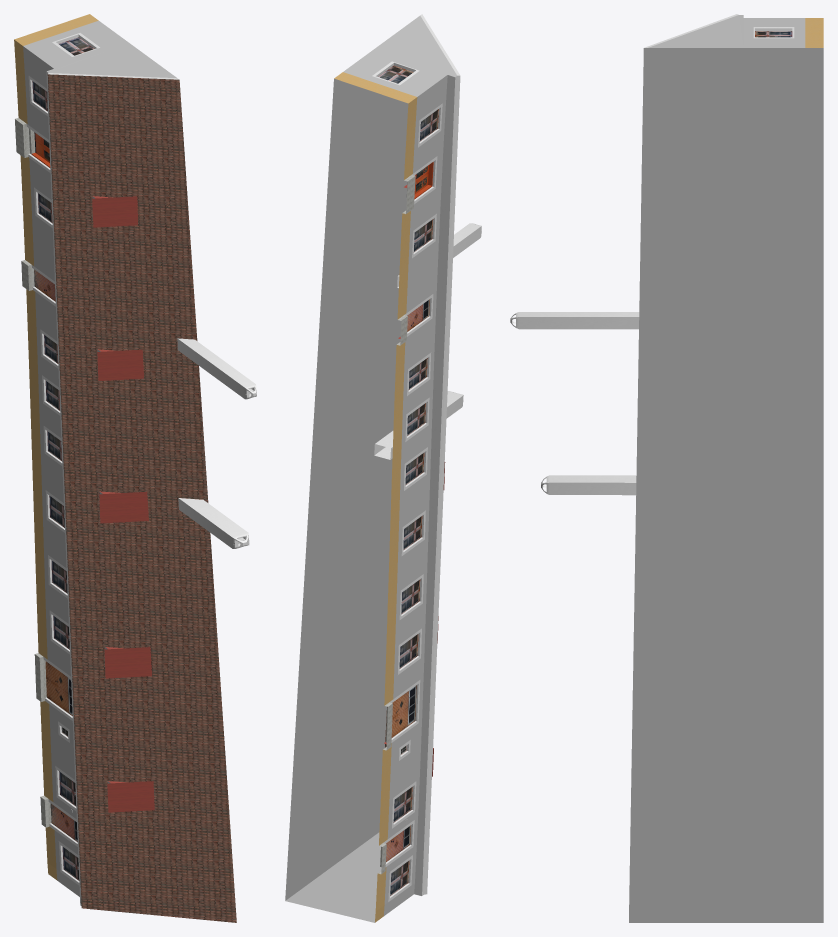
The model's file is Myyrivahe_52.obj.
3 views of the same model, side by side, from view 1: azimuth 30°, elevation 25°; view 2: azimuth 150°, elevation 25°; view 3: azimuth 270°, elevation 25° (orthographic).
Parts seen in each view (by area): view 1: myv_52; view 2: xxx, myv_52; view 3: xxx, myv_52.
Boxes of the visible parts, x1,y1,x2,y2 form: myv_52: [14, 14, 256, 922]; xxx: [285, 78, 408, 922]; myv_52: [334, 14, 481, 922]; xxx: [629, 48, 823, 922]; myv_52: [510, 14, 823, 495].
Size of the model in its own units: 7.18 by 43.14 by 14.39.
